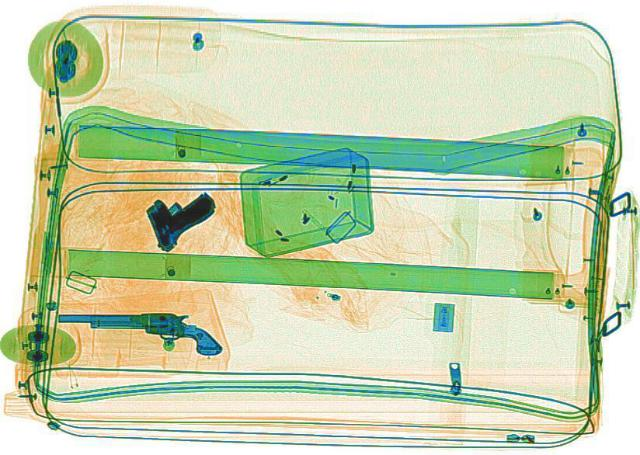Gun: (57, 310, 221, 356), (122, 181, 228, 250)
